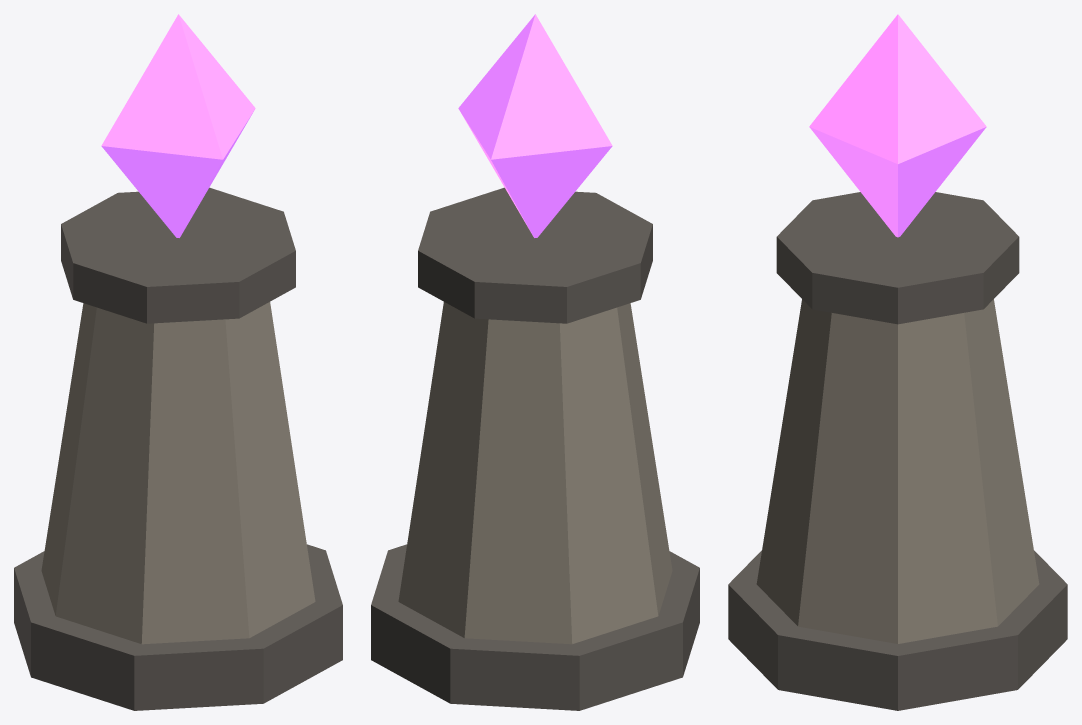
Rendered from tour.glb.
3 views of the same model, side by side, from view 1: azimuth 30°, elevation 25°; view 2: azimuth 150°, elevation 25°; view 3: azimuth 270°, elevation 25° (orthographic).
Visible parts, largest first — view 1: Socle, Socle_bas, Socle_haut, Cristal; view 2: Socle, Socle_bas, Socle_haut, Cristal; view 3: Socle, Socle_bas, Socle_haut, Cristal.
Boxes of the visible parts, x1,y1,x2,y2 form: Socle: (41, 302, 315, 644); Socle_bas: (14, 544, 342, 710); Socle_haut: (61, 187, 295, 323); Cristal: (101, 14, 255, 237); Socle: (398, 302, 672, 644); Socle_bas: (371, 544, 699, 710); Socle_haut: (418, 187, 652, 323); Cristal: (458, 14, 612, 237); Socle: (756, 299, 1039, 643); Socle_bas: (728, 550, 1067, 710); Socle_haut: (776, 192, 1019, 324); Cristal: (809, 14, 986, 237).
Bounding box in the file's own units: 0.84 × 1.71 × 0.84.
